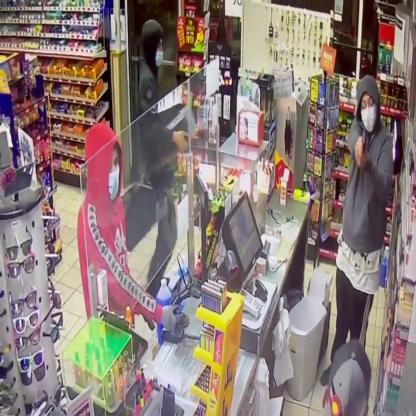Pistol: (356, 126, 373, 167)
